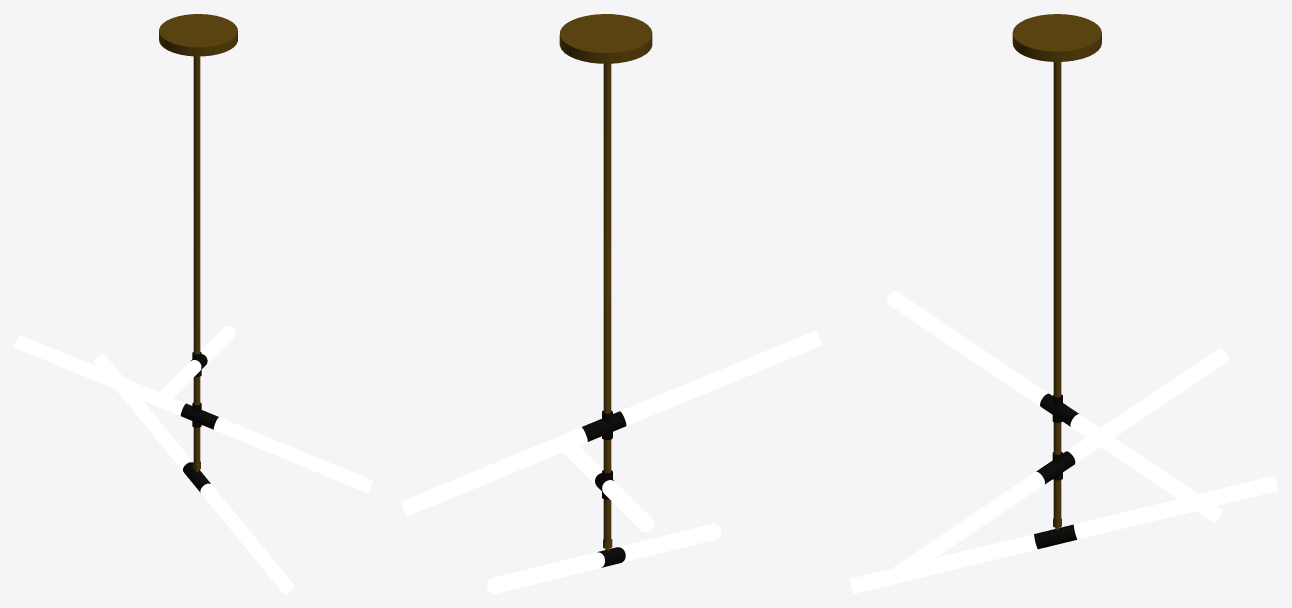
File: ceiling-lamp-2.glb
The picture shows the model from 3 angles, left to right: view 1: azimuth 30°, elevation 25°; view 2: azimuth 150°, elevation 25°; view 3: azimuth 270°, elevation 25°; orthographic projection. The views are drawn at different scales.
Visible parts, largest first — view 1: Cylinder.002; view 2: Cylinder.002; view 3: Cylinder.002.
Boxes of the visible parts, left/top/right/bottom form: Cylinder.002: left=14, top=14, right=372, bottom=593; Cylinder.002: left=401, top=14, right=821, bottom=593; Cylinder.002: left=850, top=14, right=1277, bottom=593.
Size of the model in its own units: 2.74 by 5.96 by 4.11.
